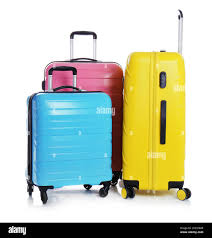suitcase: (121, 5, 193, 203), (42, 31, 125, 187), (23, 65, 116, 202)
